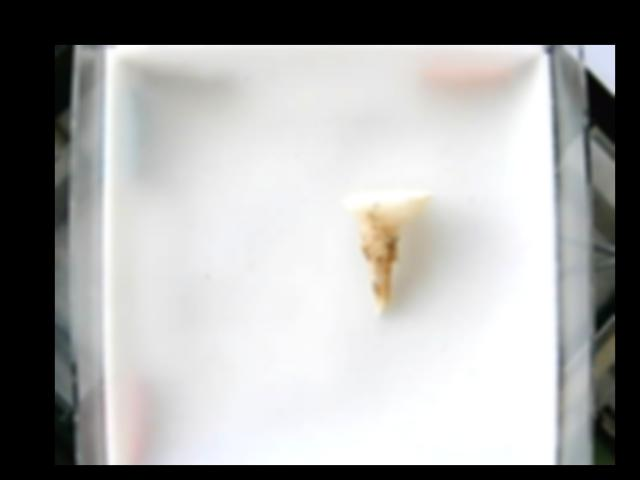Mooli: (342, 187, 430, 314)
